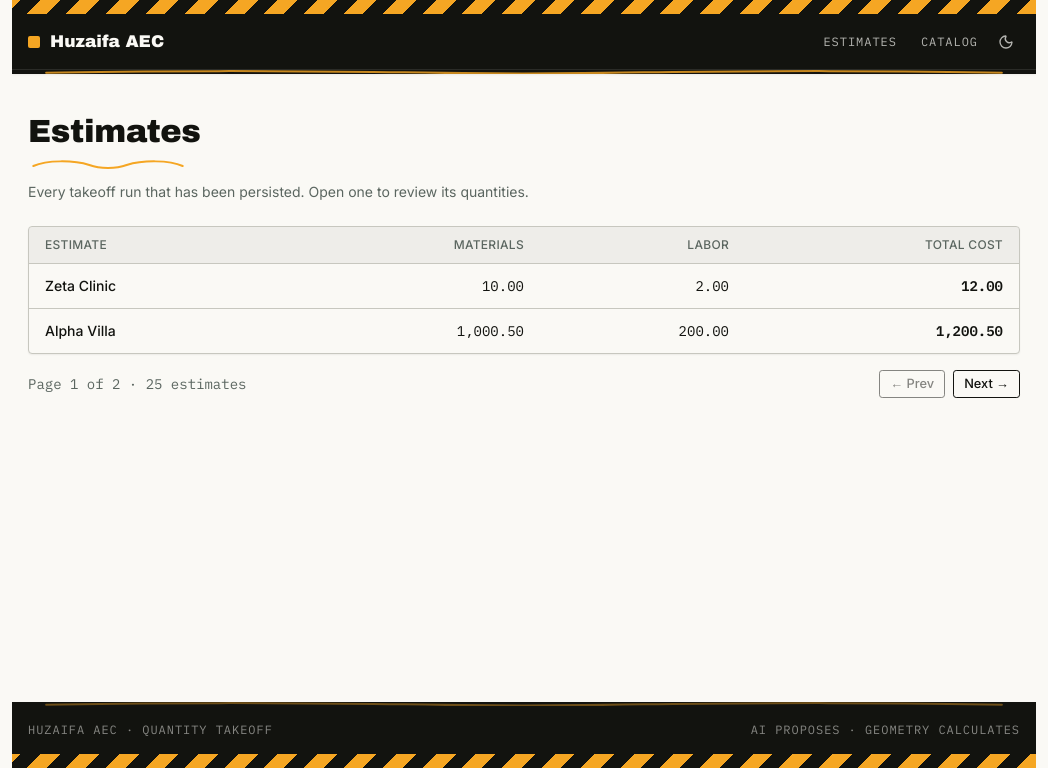
Scenario: EstimateListPage › pages through results via Prev/Next with bounds
Check: the link "Alpha Villa" is shown, box [45, 322, 116, 339]
Check: the button "← Prev" is disabled, box [879, 370, 945, 398]
Click the button "Next →" at [987, 384], box [953, 370, 1020, 398]
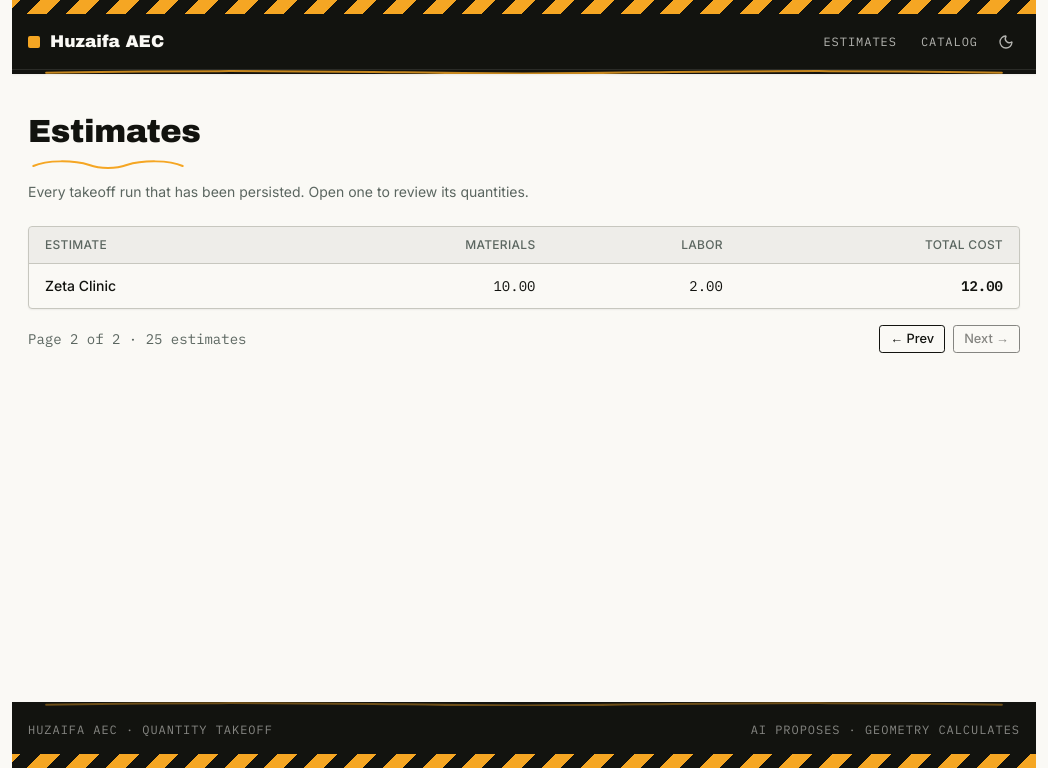
Check: the text "Page 2 of 2 · 25 estimates" is shown, box [28, 329, 246, 349]
Check: the button "Next →" is disabled, box [953, 325, 1020, 353]
